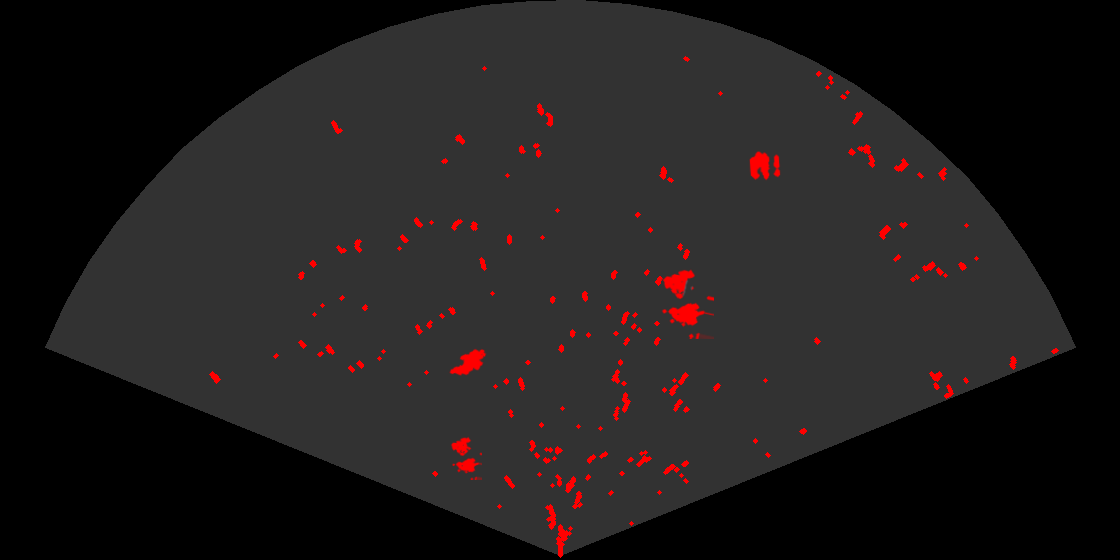AUV: (448, 347, 488, 377)
ball: (748, 150, 782, 182)
cage: (660, 268, 714, 339), (449, 435, 482, 480)
